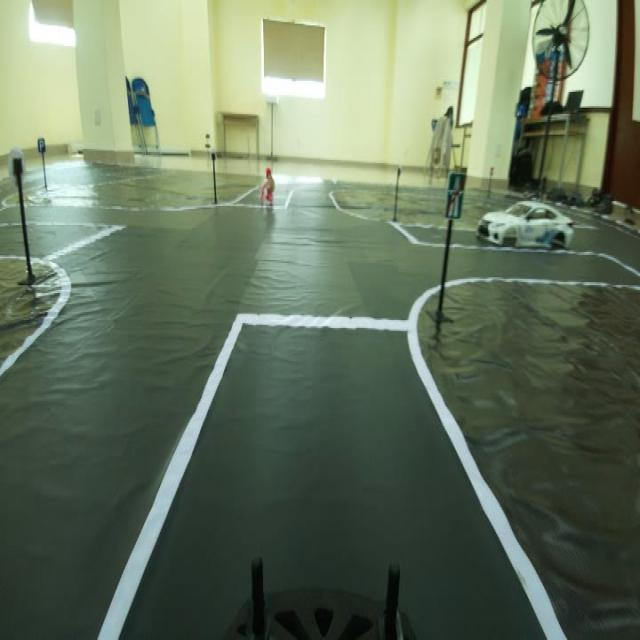highway_exit: (442, 166, 466, 224)
